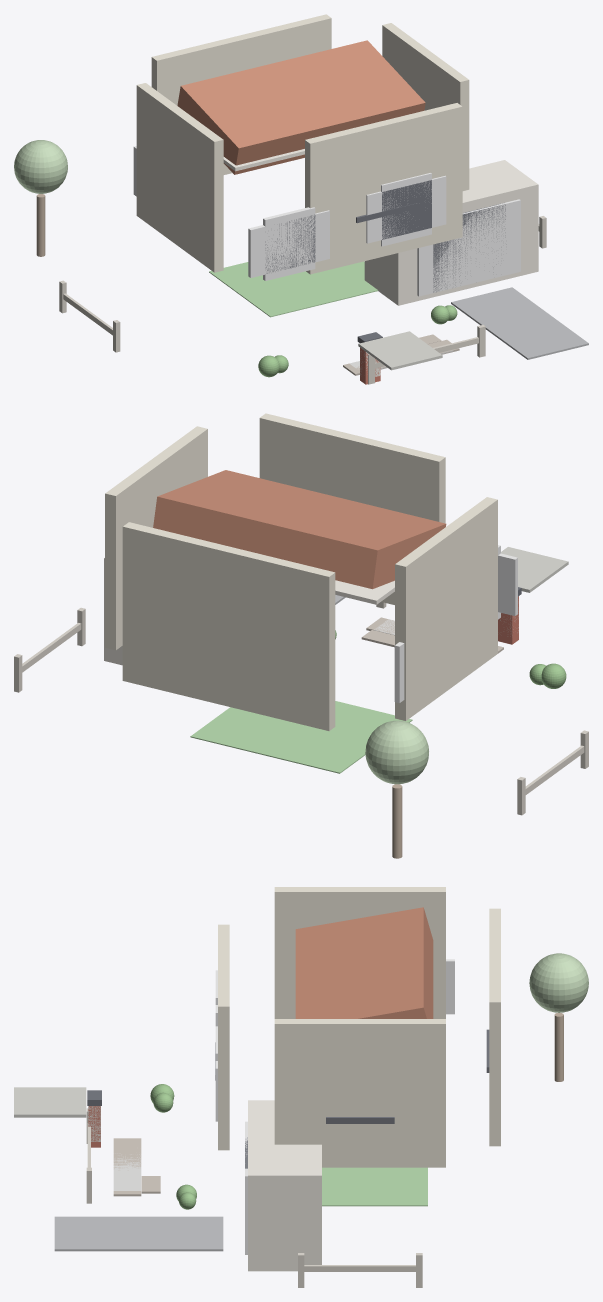
Rendered from BUILDING_HOUSE_SUBURBAN_BRICK_001_LOD_GAMEPLAY.glb.
The picture shows the model from 3 angles, top to bottom: view 1: azimuth 30°, elevation 25°; view 2: azimuth 150°, elevation 25°; view 3: azimuth 270°, elevation 25°; orthographic projection. The views are drawn at different scales.
Parts seen in each view (by area): view 1: MOD_ROOF_TILE_STANDARD_001_gable_tile_roof_ROOF.001, MOD_WALL_BRICK_SUBURBAN_001_cream_brick_wall_WALL.007, MOD_WALL_BRICK_SUBURBAN_001_cream_brick_wall_WALL.004, MOD_WALL_BRICK_SUBURBAN_001_cream_brick_wall_WALL.006, MOD_GARAGE_RESIDENTIAL_STANDARD_001_double_garage_front_DOO, MOD_GARAGE_RESIDENTIAL_STANDARD_001_double_garage_front_SHEL, MOD_GROUND_GRASS_STANDARD_001_GAMEPLAY_PATCH, MOD_DRIVEWAY_STANDARD_SINGLE_001_GAMEPLAY_SURFACE, MOD_WALL_BRICK_SUBURBAN_001_cream_brick_wall_WALL.005, MOD_WINDOW_RESIDENTIAL_STANDARD_001_double_standard_window_F, MOD_WINDOW_RESIDENTIAL_STANDARD_001_dark_frame_standard_win. (×2), MOD_TREE_EUCALYPTUS_STANDARD_001_GAMEPLAY_CANOPY (+7 smaller); view 2: MOD_WALL_BRICK_SUBURBAN_001_cream_brick_wall_WALL.006, MOD_ROOF_TILE_STANDARD_001_gable_tile_roof_ROOF.001, MOD_WALL_BRICK_SUBURBAN_001_cream_brick_wall_WALL.004, MOD_WALL_BRICK_SUBURBAN_001_cream_brick_wall_WALL.007, MOD_GROUND_GRASS_STANDARD_001_GAMEPLAY_PATCH, MOD_WALL_BRICK_SUBURBAN_001_cream_brick_wall_WALL.005, MOD_TREE_EUCALYPTUS_STANDARD_001_GAMEPLAY_CANOPY, MOD_PATH_STANDARD_001_GAMEPLAY_SURFACE, MOD_WINDOW_RESIDENTIAL_STANDARD_001_double_standard_window_F, MOD_ROOF_TILE_STANDARD_001_gable_tile_roof_FASCIA.001, MOD_TREE_EUCALYPTUS_STANDARD_001_GAMEPLAY_TRUNK, MOD_WINDOW_RESIDENTIAL_STANDARD_001_double_standard_window_. (+3 smaller); view 3: MOD_WALL_BRICK_SUBURBAN_001_cream_brick_wall_WALL.005, MOD_ROOF_TILE_STANDARD_001_gable_tile_roof_ROOF.001, MOD_GARAGE_RESIDENTIAL_STANDARD_001_double_garage_front_SHEL, MOD_WALL_BRICK_SUBURBAN_001_cream_brick_wall_WALL.004, MOD_DRIVEWAY_STANDARD_SINGLE_001_GAMEPLAY_SURFACE, MOD_GROUND_GRASS_STANDARD_001_GAMEPLAY_PATCH, MOD_WALL_BRICK_SUBURBAN_001_cream_brick_wall_WALL.006, MOD_TREE_EUCALYPTUS_STANDARD_001_GAMEPLAY_CANOPY, MOD_WALL_BRICK_SUBURBAN_001_cream_brick_wall_WALL.007, MOD_PATH_STANDARD_001_GAMEPLAY_SURFACE, MOD_ENTRY_PATH_SUBURBAN_001_split_garden_entry_path_PATH.001, MOD_ENTRY_PATH_SUBURBAN_001_driveway_to_porch_entry_PATH.001 (+2 smaller).
Boxes of the visible parts, bbox=[...] form: MOD_ROOF_TILE_STANDARD_001_gable_tile_roof_ROOF.001: bbox=[177, 40, 425, 174]; MOD_WALL_BRICK_SUBURBAN_001_cream_brick_wall_WALL.007: bbox=[305, 103, 462, 274]; MOD_WALL_BRICK_SUBURBAN_001_cream_brick_wall_WALL.004: bbox=[136, 83, 223, 272]; MOD_WALL_BRICK_SUBURBAN_001_cream_brick_wall_WALL.006: bbox=[151, 14, 331, 174]; MOD_GARAGE_RESIDENTIAL_STANDARD_001_double_garage_front_DOO: bbox=[417, 199, 520, 296]; MOD_GARAGE_RESIDENTIAL_STANDARD_001_double_garage_front_SHEL: bbox=[364, 160, 538, 305]; MOD_GROUND_GRASS_STANDARD_001_GAMEPLAY_PATCH: bbox=[209, 261, 378, 317]; MOD_DRIVEWAY_STANDARD_SINGLE_001_GAMEPLAY_SURFACE: bbox=[451, 287, 588, 359]; MOD_WALL_BRICK_SUBURBAN_001_cream_brick_wall_WALL.005: bbox=[382, 23, 469, 190]; MOD_WINDOW_RESIDENTIAL_STANDARD_001_double_standard_window_F: bbox=[248, 210, 329, 277]; MOD_WINDOW_RESIDENTIAL_STANDARD_001_dark_frame_standard_win. (×2): bbox=[265, 180, 431, 273]; MOD_TREE_EUCALYPTUS_STANDARD_001_GAMEPLAY_CANOPY: bbox=[14, 140, 67, 193]; MOD_WALL_BRICK_SUBURBAN_001_cream_brick_wall_WALL.006: bbox=[122, 522, 335, 730]; MOD_ROOF_TILE_STANDARD_001_gable_tile_roof_ROOF.001: bbox=[153, 470, 446, 589]; MOD_WALL_BRICK_SUBURBAN_001_cream_brick_wall_WALL.004: bbox=[395, 497, 497, 720]; MOD_WALL_BRICK_SUBURBAN_001_cream_brick_wall_WALL.007: bbox=[259, 413, 445, 604]; MOD_GROUND_GRASS_STANDARD_001_GAMEPLAY_PATCH: bbox=[190, 701, 412, 773]; MOD_WALL_BRICK_SUBURBAN_001_cream_brick_wall_WALL.005: bbox=[105, 426, 207, 650]; MOD_TREE_EUCALYPTUS_STANDARD_001_GAMEPLAY_CANOPY: bbox=[365, 720, 428, 784]; MOD_PATH_STANDARD_001_GAMEPLAY_SURFACE: bbox=[501, 547, 568, 592]; MOD_WINDOW_RESIDENTIAL_STANDARD_001_double_standard_window_F: bbox=[498, 553, 517, 615]; MOD_ROOF_TILE_STANDARD_001_gable_tile_roof_FASCIA.001: bbox=[335, 580, 394, 604]; MOD_TREE_EUCALYPTUS_STANDARD_001_GAMEPLAY_TRUNK: bbox=[392, 784, 402, 858]; MOD_WINDOW_RESIDENTIAL_STANDARD_001_double_standard_window_.: bbox=[394, 642, 404, 703]; MOD_WALL_BRICK_SUBURBAN_001_cream_brick_wall_WALL.005: bbox=[274, 1019, 445, 1167]; MOD_ROOF_TILE_STANDARD_001_gable_tile_roof_ROOF.001: bbox=[295, 907, 433, 1018]; MOD_GARAGE_RESIDENTIAL_STANDARD_001_double_garage_front_SHEL: bbox=[248, 1100, 321, 1271]; MOD_WALL_BRICK_SUBURBAN_001_cream_brick_wall_WALL.004: bbox=[274, 887, 445, 1018]; MOD_DRIVEWAY_STANDARD_SINGLE_001_GAMEPLAY_SURFACE: bbox=[54, 1216, 223, 1251]; MOD_GROUND_GRASS_STANDARD_001_GAMEPLAY_PATCH: bbox=[322, 1167, 427, 1206]; MOD_WALL_BRICK_SUBURBAN_001_cream_brick_wall_WALL.006: bbox=[489, 908, 500, 1146]; MOD_TREE_EUCALYPTUS_STANDARD_001_GAMEPLAY_CANOPY: bbox=[529, 953, 588, 1012]; MOD_WALL_BRICK_SUBURBAN_001_cream_brick_wall_WALL.007: bbox=[218, 924, 229, 1150]; MOD_PATH_STANDARD_001_GAMEPLAY_SURFACE: bbox=[14, 1087, 86, 1117]; MOD_ENTRY_PATH_SUBURBAN_001_split_garden_entry_path_PATH.001: bbox=[113, 1138, 141, 1196]; MOD_ENTRY_PATH_SUBURBAN_001_driveway_to_porch_entry_PATH.001: bbox=[113, 1153, 141, 1190].
Size of the model in its own units: 10.34 by 4.54 by 10.87.
